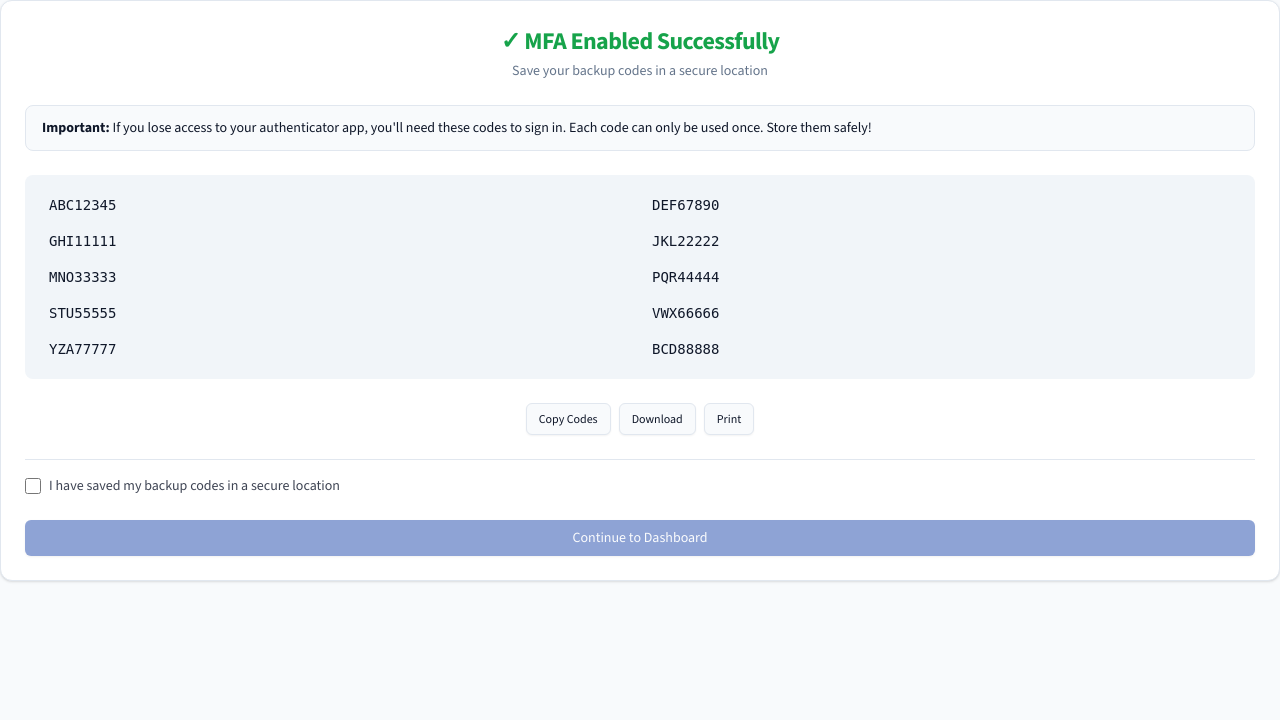
Test case: BackupCodesDisplay › should enable continue button after confirmation checkbox
This screenshot has width=1280, height=720.
Note: Check the confirmation checkbox
Click the checkbox. click: (33, 486)
box: top-left (25, 478), bottom-right (41, 494)
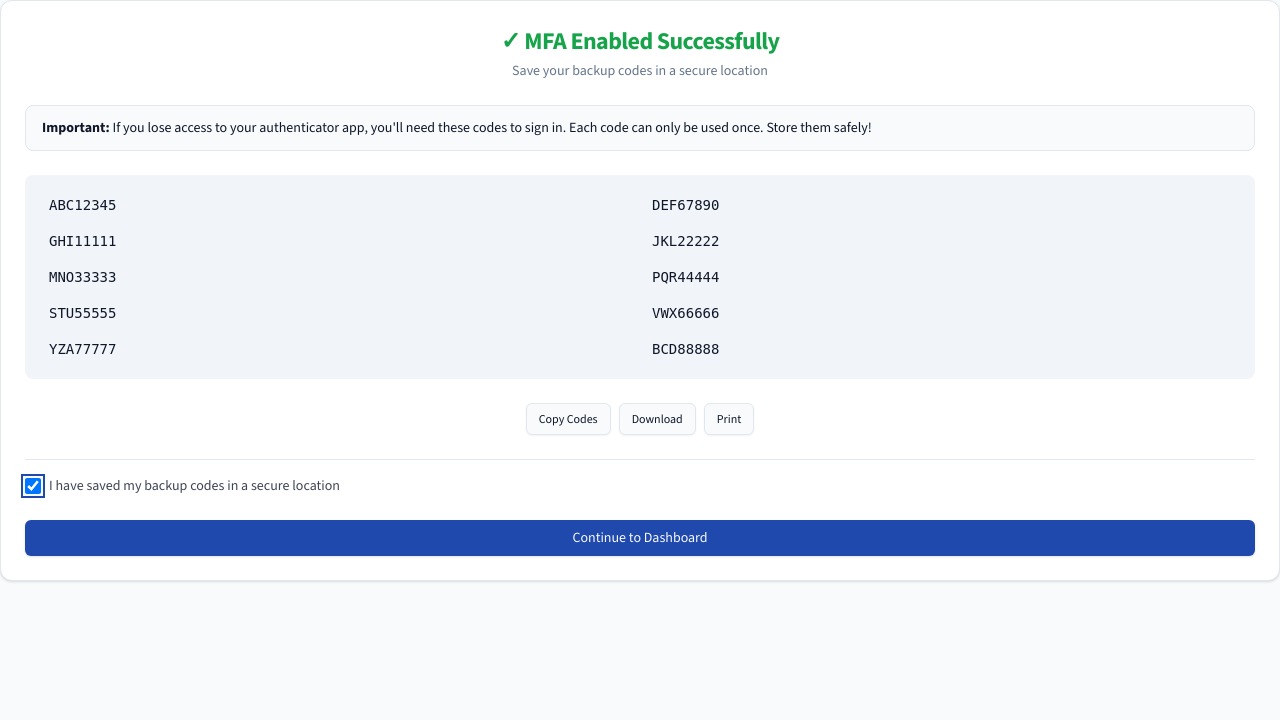
Result: the button "Continue to Dashboard" is enabled at top-left (25, 520), bottom-right (1255, 556)
